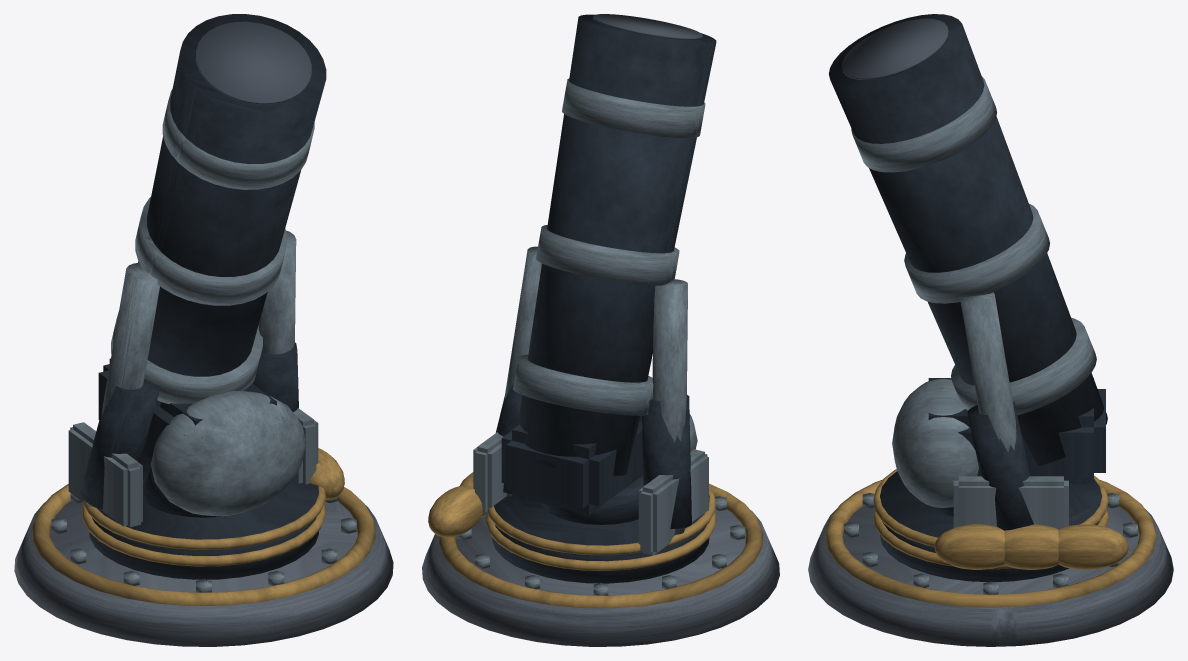
The model's file is tower_mortar_2.glb.
3 renders of one model, left to right at view 1: azimuth 30°, elevation 25°; view 2: azimuth 150°, elevation 25°; view 3: azimuth 270°, elevation 25°, orthographic. The views are drawn at different scales.
Parts seen in each view (by area): view 1: Forged_black_iron.001, Weathered_blue_steel.001, Weathered_granite, Antique_brass, Forged_black_iron, Eye_socket, Weathered_blue_steel; view 2: Forged_black_iron.001, Weathered_blue_steel.001, Weathered_granite, Antique_brass, Forged_black_iron, Weathered_blue_steel, Eye_socket; view 3: Forged_black_iron.001, Weathered_blue_steel.001, Weathered_granite, Antique_brass, Forged_black_iron, Weathered_blue_steel, Eye_socket.
Part boxes in pixels (left/top/right/bottom): Forged_black_iron.001: left=80, top=14, right=326, bottom=509; Weathered_blue_steel.001: left=87, top=89, right=314, bottom=516; Weathered_granite: left=14, top=501, right=393, bottom=646; Antique_brass: left=32, top=448, right=375, bottom=605; Forged_black_iron: left=89, top=453, right=318, bottom=579; Eye_socket: left=195, top=21, right=311, bottom=104; Weathered_blue_steel: left=51, top=408, right=356, bottom=592; Forged_black_iron.001: left=496, top=14, right=716, bottom=529; Weathered_blue_steel.001: left=504, top=78, right=705, bottom=534; Weathered_granite: left=422, top=509, right=779, bottom=646; Antique_brass: left=428, top=472, right=763, bottom=608; Forged_black_iron: left=492, top=476, right=709, bottom=583; Weathered_blue_steel: left=456, top=432, right=745, bottom=595; Eye_socket: left=593, top=14, right=702, bottom=39; Forged_black_iron.001: left=829, top=14, right=1107, bottom=530; Weathered_blue_steel.001: left=851, top=76, right=1096, bottom=507; Weathered_granite: left=808, top=506, right=1173, bottom=646; Antique_brass: left=825, top=469, right=1156, bottom=607; Forged_black_iron: left=880, top=471, right=1101, bottom=581; Weathered_blue_steel: left=844, top=476, right=1137, bottom=594; Eye_socket: left=841, top=18, right=948, bottom=79.
Size of the model in its own units: 2.7 by 4.4 by 2.7.
Materials: 5 (4 with a texture image).
